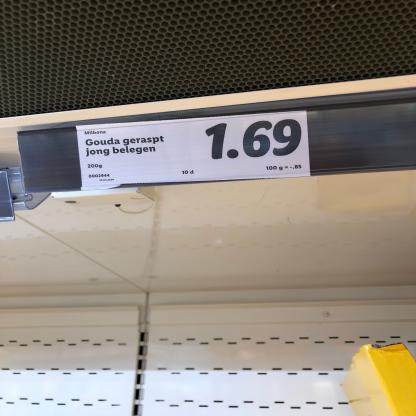prtg: (77, 111, 311, 188)
